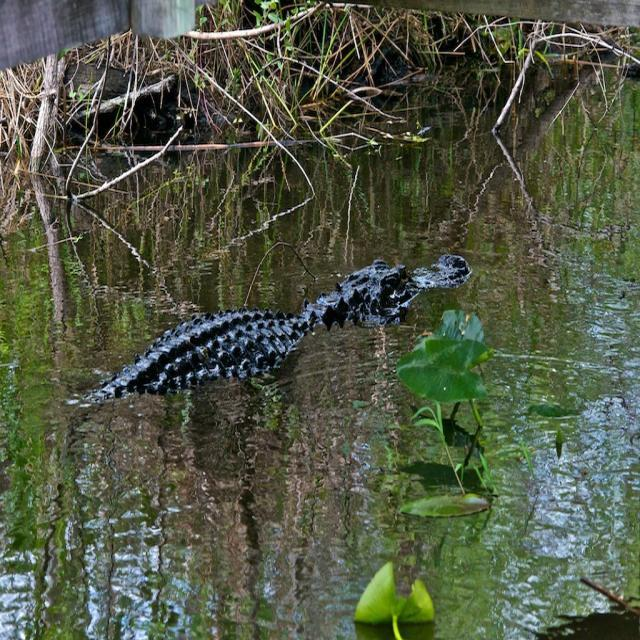crocodile: (46, 238, 505, 439)
